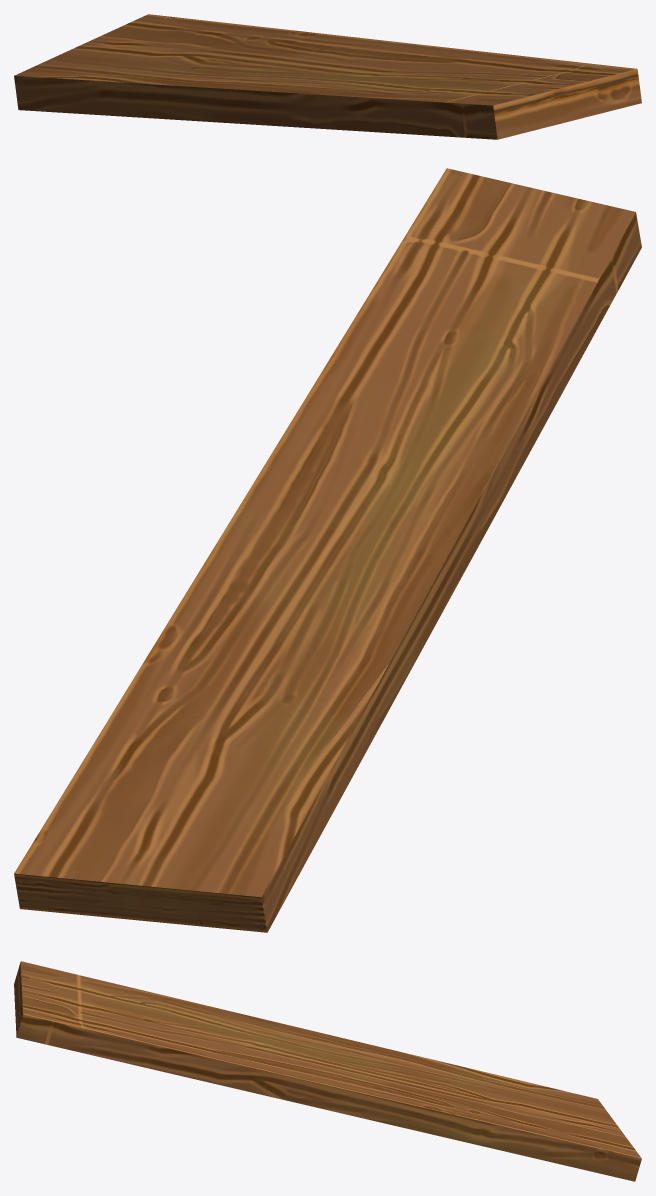
The picture shows the model from 3 angles, top to bottom: view 1: azimuth 30°, elevation 25°; view 2: azimuth 150°, elevation 25°; view 3: azimuth 270°, elevation 25°; orthographic projection. The views are drawn at different scales.
Parts seen in each view (by area): view 1: Cube.572; view 2: Cube.572; view 3: Cube.572.
Boxes of the visible parts, <box> form: Cube.572: <box>14,14,641,139</box>; Cube.572: <box>14,168,641,932</box>; Cube.572: <box>14,961,641,1181</box>.
Size of the model in its own units: 66.51 by 69.18 by 202.
Materials: 1 (1 with a texture image).
